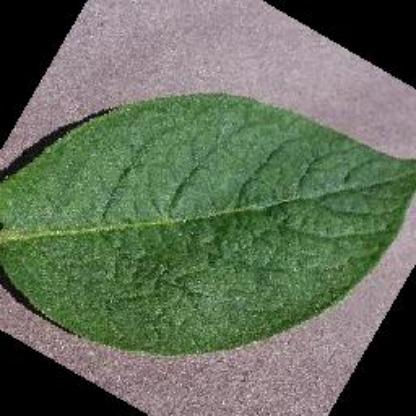Healthy-plant: (7, 91, 415, 360)
